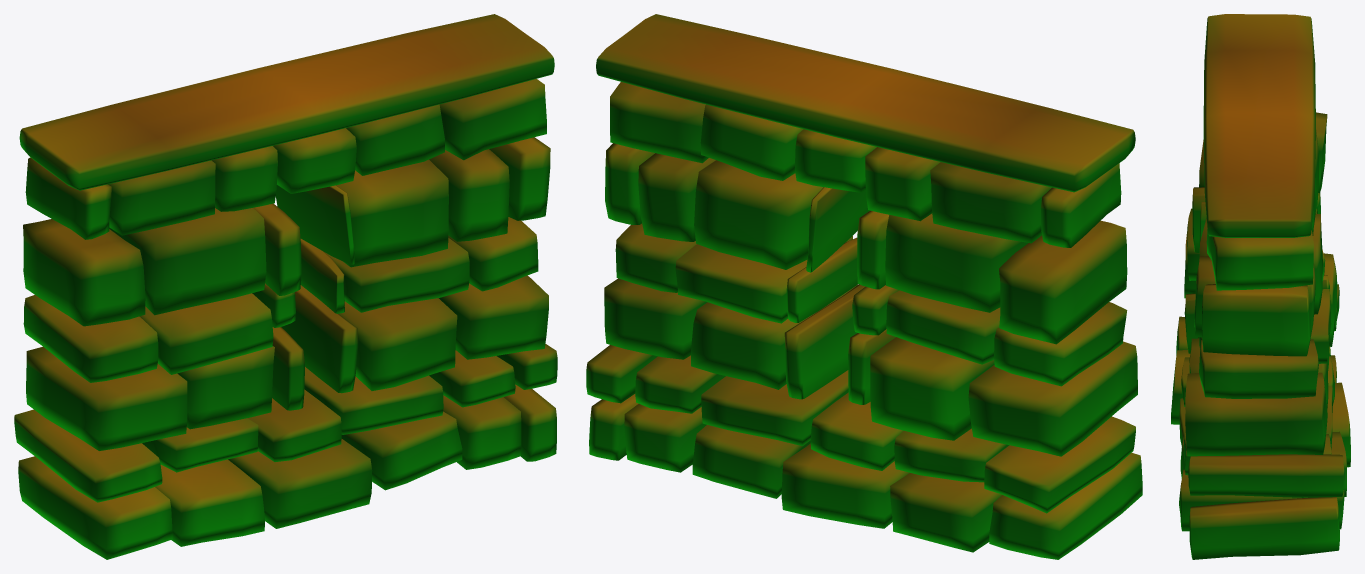
Rendered from tidewall_windgap.glb.
The picture shows the model from 3 angles, left to right: view 1: azimuth 30°, elevation 25°; view 2: azimuth 150°, elevation 25°; view 3: azimuth 270°, elevation 25°; orthographic projection. The views are drawn at different scales.
Visible parts, largest first — view 1: tidewall_windgap; view 2: tidewall_windgap; view 3: tidewall_windgap.
Boxes of the visible parts, <box> form: tidewall_windgap: <box>14,14,557,559</box>; tidewall_windgap: <box>586,14,1142,559</box>; tidewall_windgap: <box>1171,14,1350,559</box>.
Size of what is drawn, in the model's own units: 2.06 by 1.63 by 0.7576.
